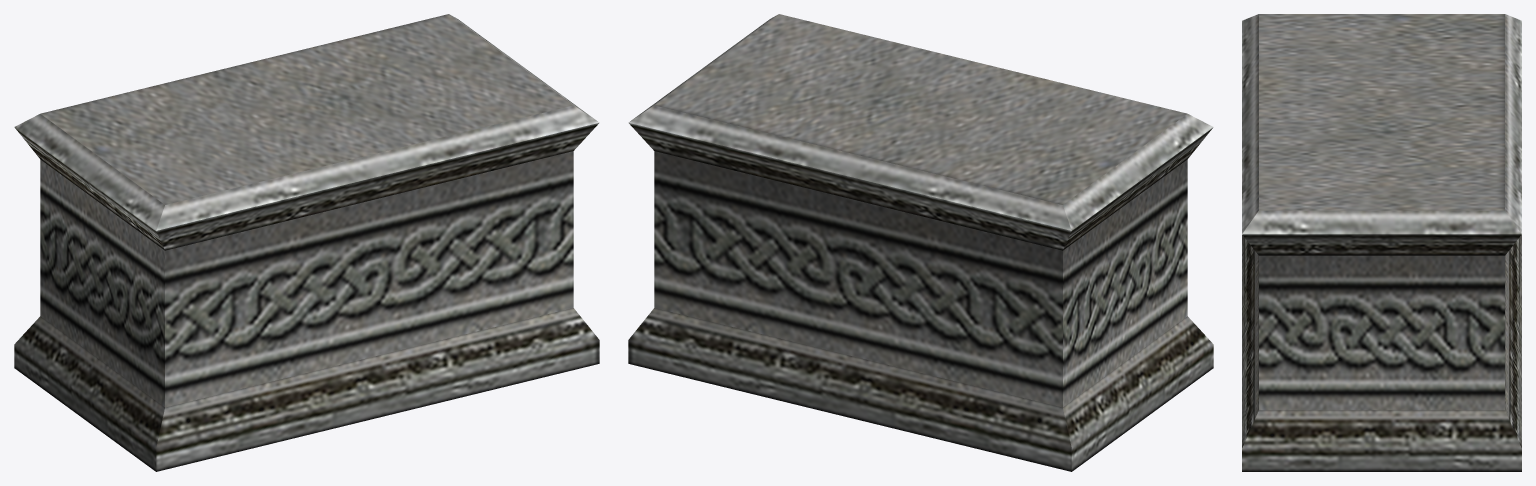
The model's file is mm9_deco_portalclean.glb.
3 views of the same model, side by side, from view 1: azimuth 30°, elevation 25°; view 2: azimuth 150°, elevation 25°; view 3: azimuth 270°, elevation 25° (orthographic).
Parts seen in each view (by area): view 1: Portalclean; view 2: Portalclean; view 3: Portalclean.
Part boxes in pixels (x1,y1,x2,y2): Portalclean: (14,14,599,471); Portalclean: (628,14,1213,471); Portalclean: (1242,14,1521,471).
Size of the model in its own units: 2.04 by 1.13 by 1.13.
1 material, 1 textured.
